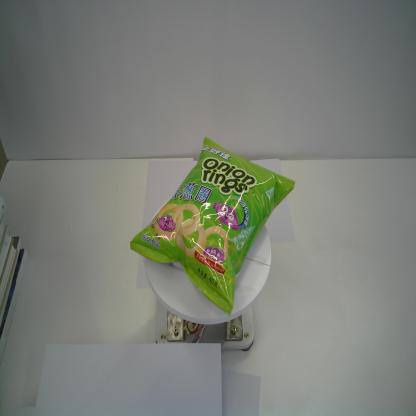Puffed Food: (127, 135, 298, 319)
